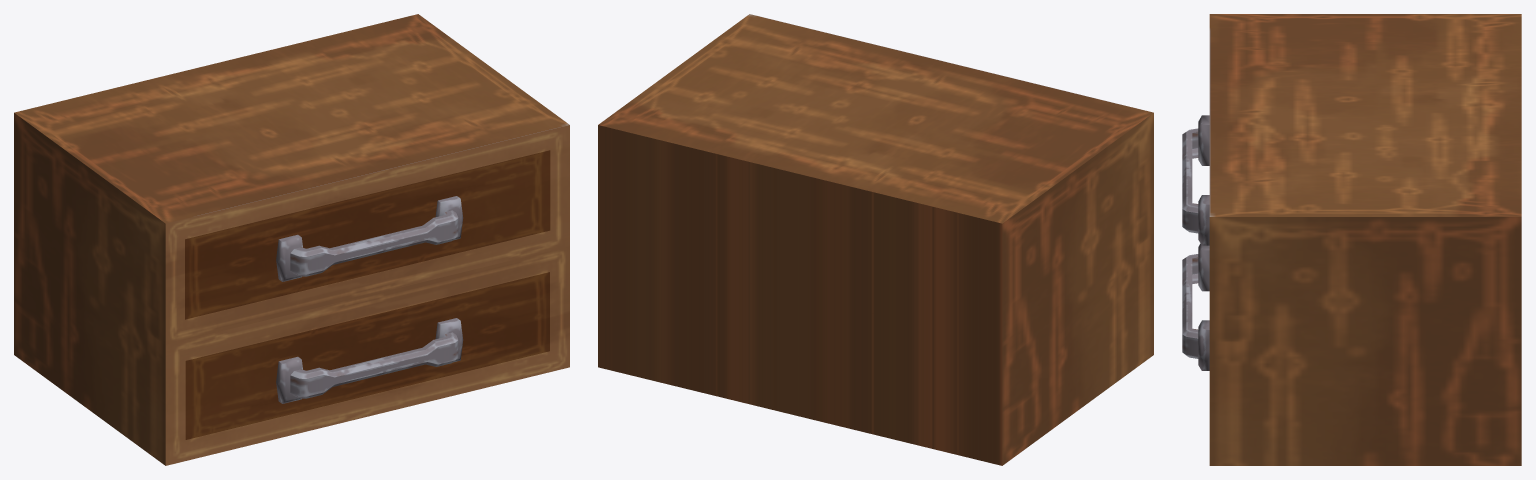
Rendered from workbench_drawers.glb.
The picture shows the model from 3 angles, left to right: view 1: azimuth 30°, elevation 25°; view 2: azimuth 150°, elevation 25°; view 3: azimuth 270°, elevation 25°; orthographic projection. The views are drawn at different scales.
Visible parts, largest first — view 1: Workbench_Drawers; view 2: Workbench_Drawers; view 3: Workbench_Drawers.
Boxes of the visible parts, x1,y1,x2,y2 form: Workbench_Drawers: (14, 14, 569, 465); Workbench_Drawers: (598, 14, 1153, 465); Workbench_Drawers: (1182, 14, 1521, 465).
Bounding box in the file's own units: 0.4231 × 0.2423 × 0.299.
Materials: 2 (2 with a texture image).
